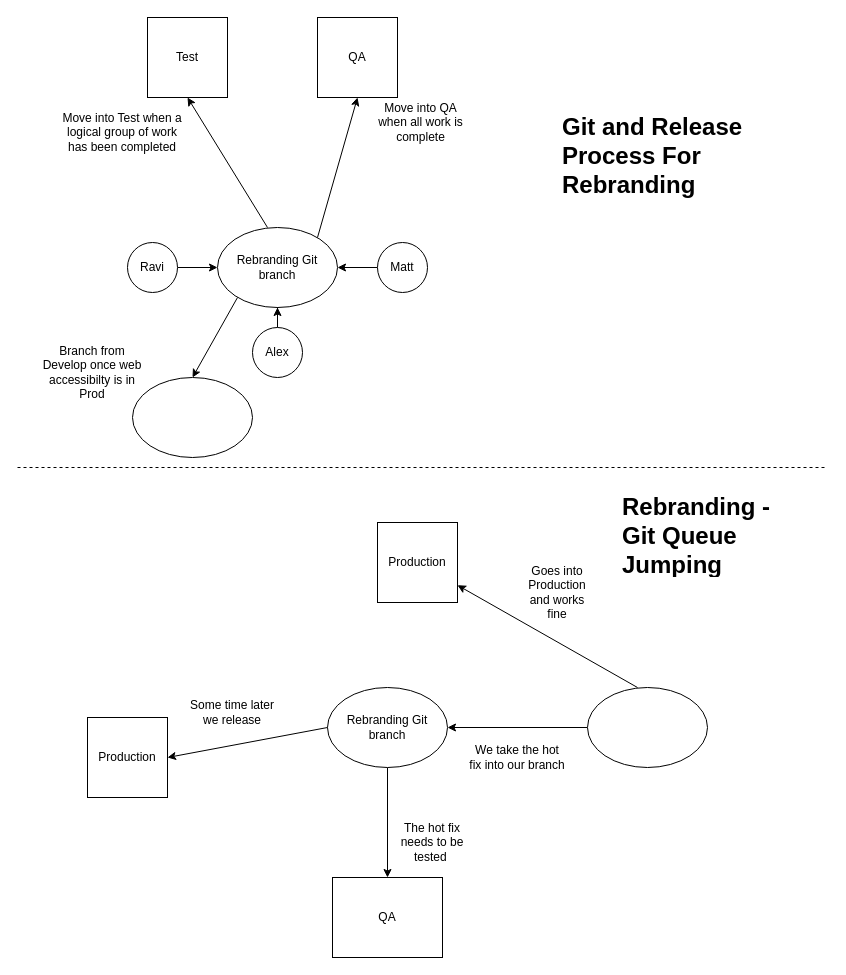
Some shapes in this 846 by 975 pixel diagram are drawn without their labels. Each missing label, with the centre of its shape:
"Develop Git Branch" belongs at point (192, 417).
"Hot Fix" belongs at point (647, 727).
